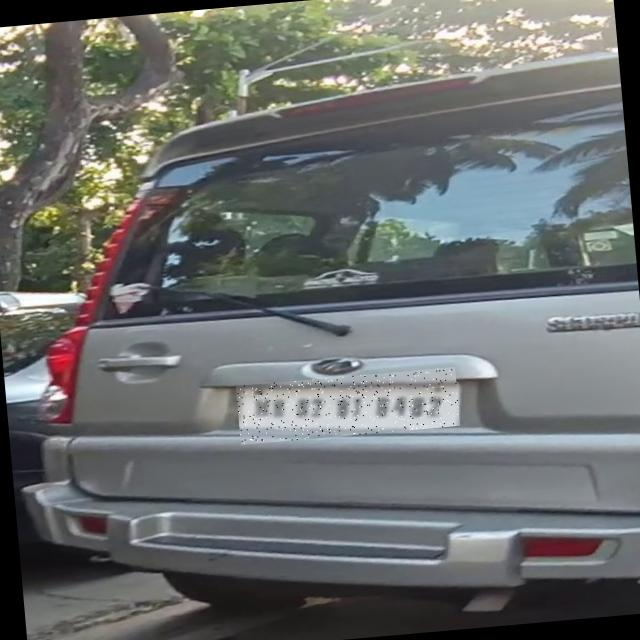Plate: (237, 368, 461, 446)
